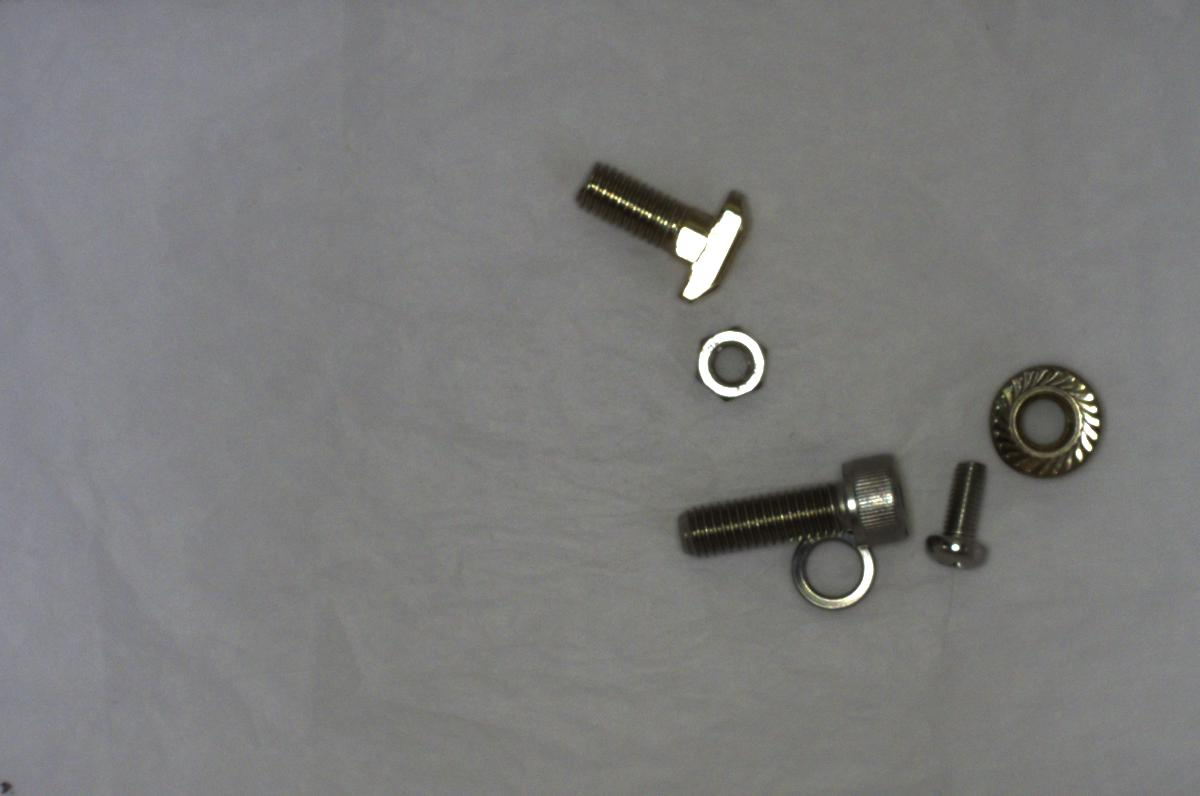Flange nut: (982, 354, 1115, 481)
Hexagon nut: (678, 314, 783, 409)
Hexagon screw: (680, 441, 911, 562)
Round head screw: (915, 459, 998, 572)
Spring washer: (782, 528, 888, 623)
T-shaped screw: (562, 155, 761, 306)
